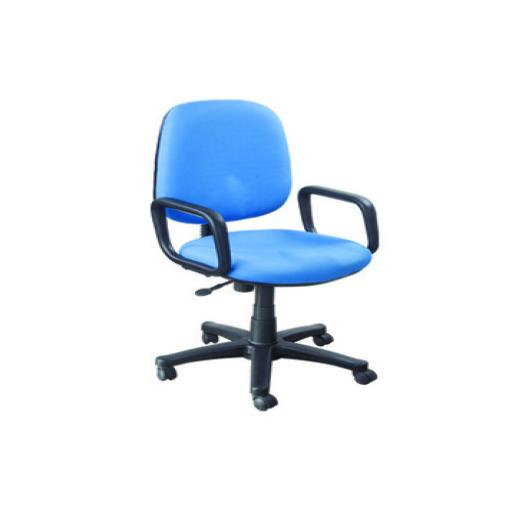chair: (121, 94, 403, 422)
